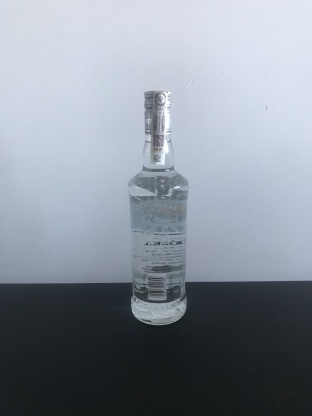nakretka: (141, 87, 173, 137)
